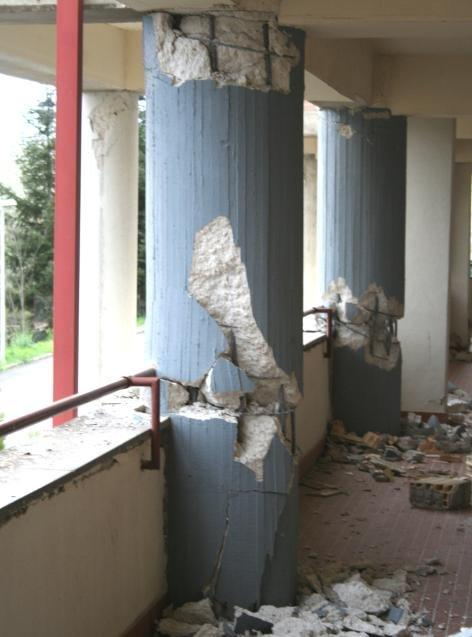exposed_rebar: (203, 16, 297, 86)
spalling: (167, 216, 301, 479), (153, 12, 300, 93), (325, 277, 403, 370), (90, 95, 134, 167)
